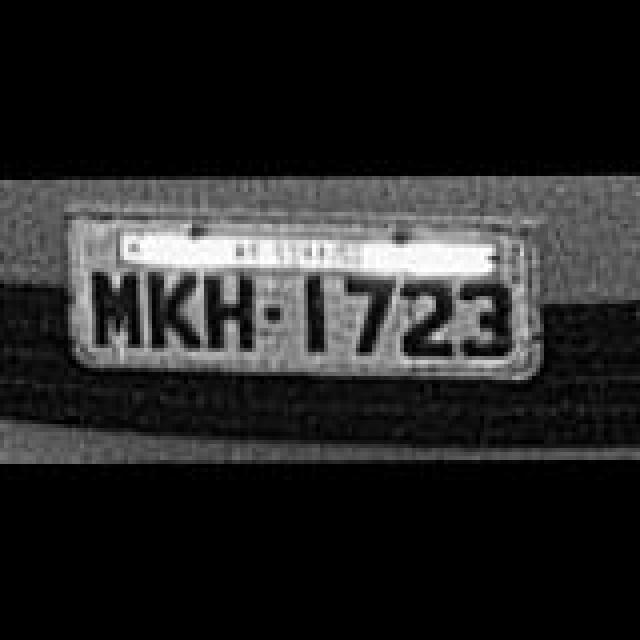1: (302, 272, 338, 356)
2: (400, 278, 456, 358)
3: (460, 278, 516, 358)
7: (342, 274, 394, 354)
H: (206, 270, 258, 350)
K: (150, 266, 202, 346)
M: (94, 268, 146, 348)
